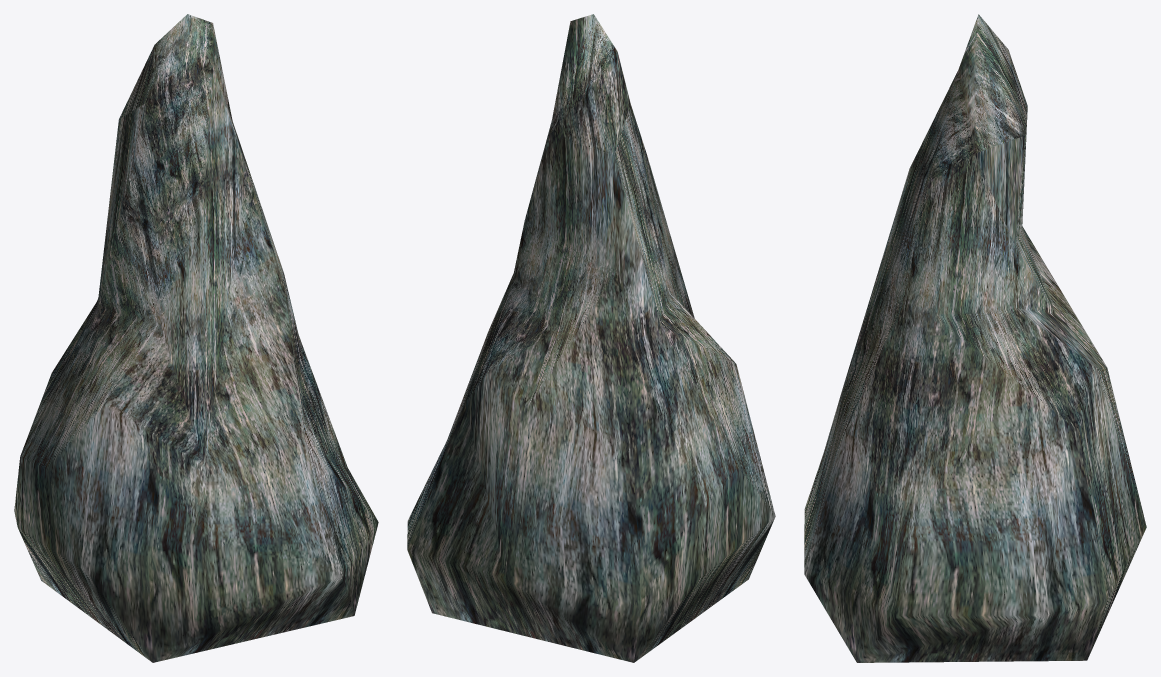
Rendered from rock_dath_desertcanyon_md_a1_l1.fbx.
3 views of the same model, side by side, from view 1: azimuth 30°, elevation 25°; view 2: azimuth 150°, elevation 25°; view 3: azimuth 270°, elevation 25° (orthographic).
Parts seen in each view (by area): view 1: mesh_node; view 2: mesh_node; view 3: mesh_node.
Boxes of the visible parts, left/top/right/bottom form: mesh_node: left=14, top=14, right=378, bottom=662; mesh_node: left=407, top=14, right=775, bottom=662; mesh_node: left=804, top=14, right=1146, bottom=662.
Size of the model in its own units: 4.26 by 8.68 by 4.21.
